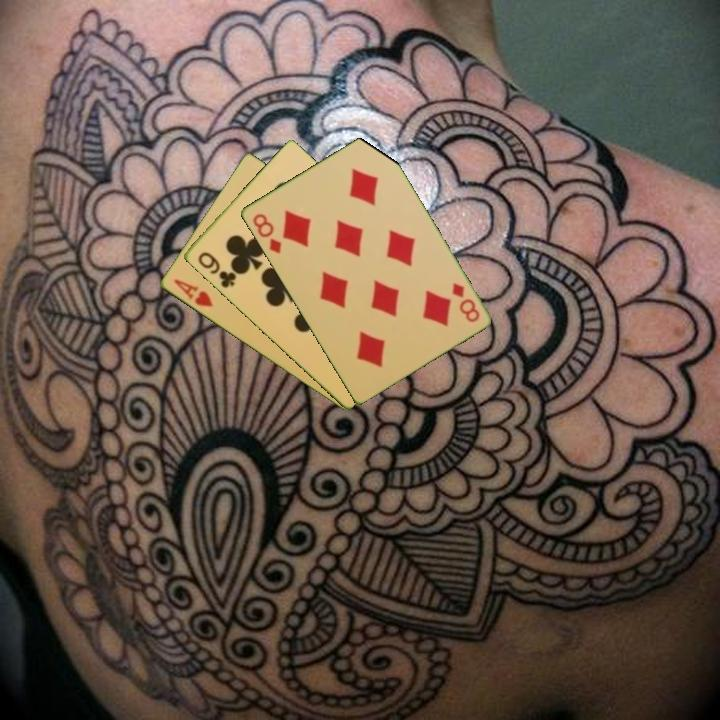8d: (249, 210, 284, 256), (448, 279, 482, 325)
9c: (194, 248, 239, 291)
Ah: (170, 275, 216, 310)
